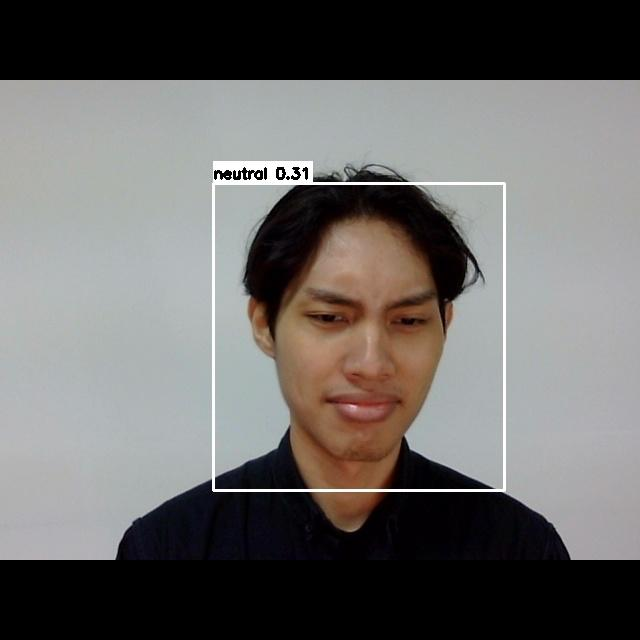Disgust: (279, 276, 451, 435)
